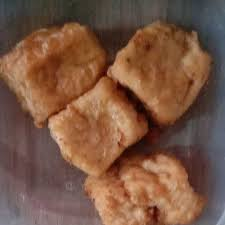Tahu goreng: (101, 12, 215, 129), (0, 20, 108, 131), (38, 74, 149, 180), (84, 140, 203, 225)
